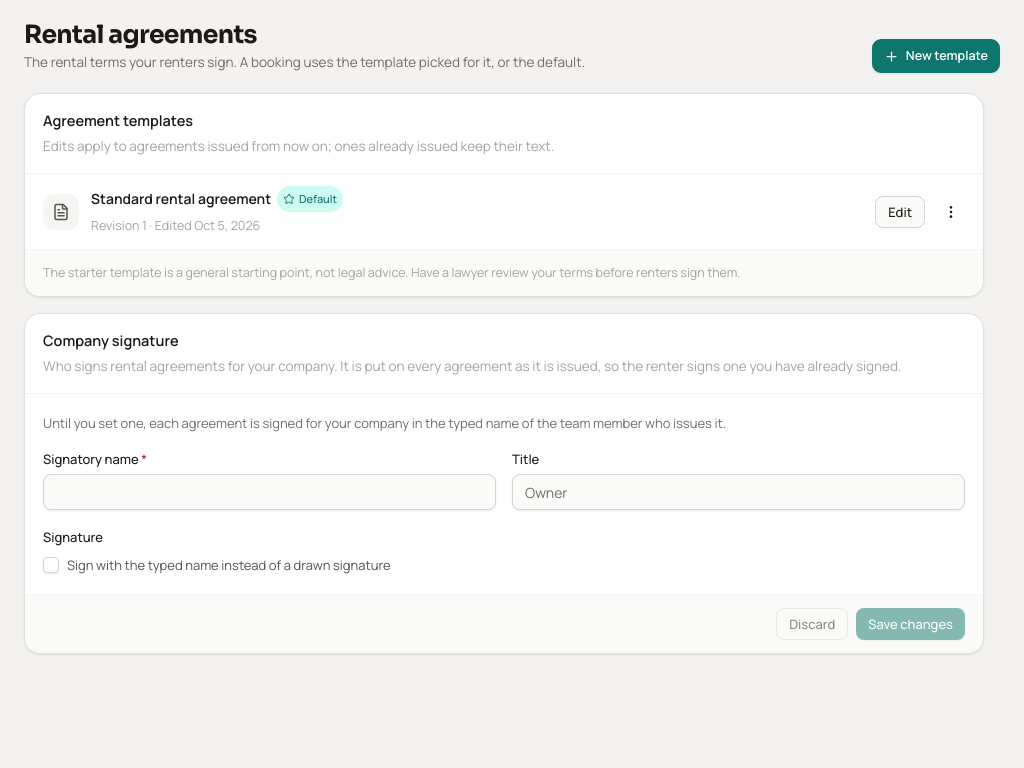
Test: AgreementsPage › opens a new template from the page header, which then steps aside for the editor
Expected: the heading "Rental agreements" is shown, [24,19,257,50]
Expected: the link "Standard rental agreement" is shown, [91,188,271,210]
Click the button "New template".
click(936, 56)  # box [872,39,1000,73]
(page scrolled)
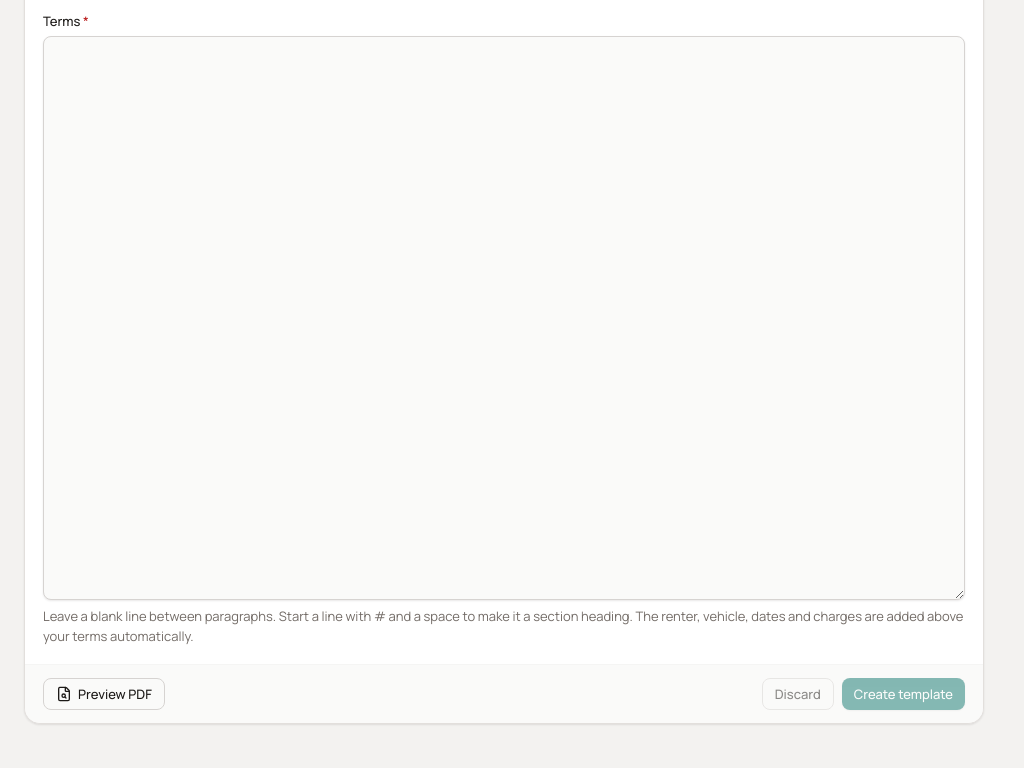
Expected: the button "New template" is not shown
Expected: the button "Create template" is shown, [842,678,965,710]
